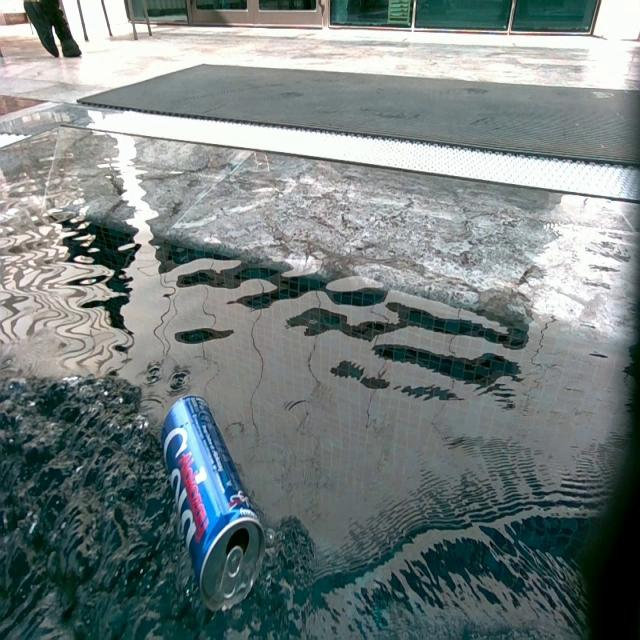Cans: (160, 394, 266, 612)
